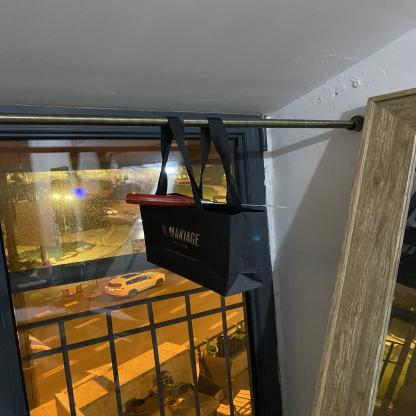Knife: (125, 191, 294, 210)
